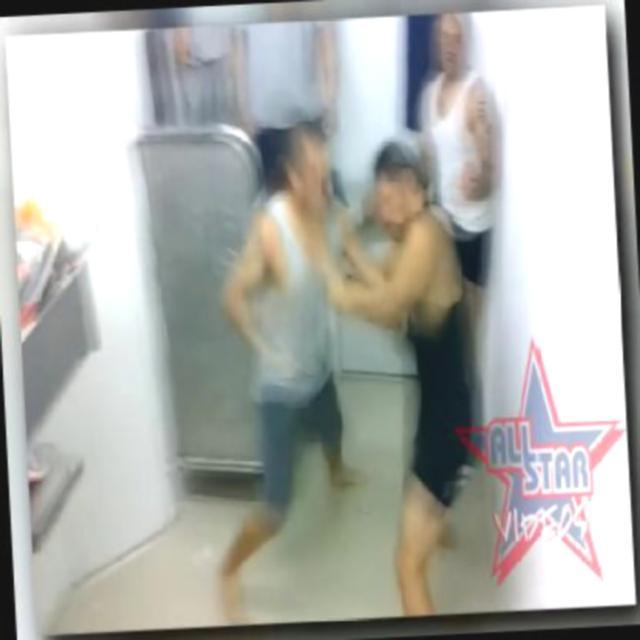fight: (213, 110, 462, 552)
